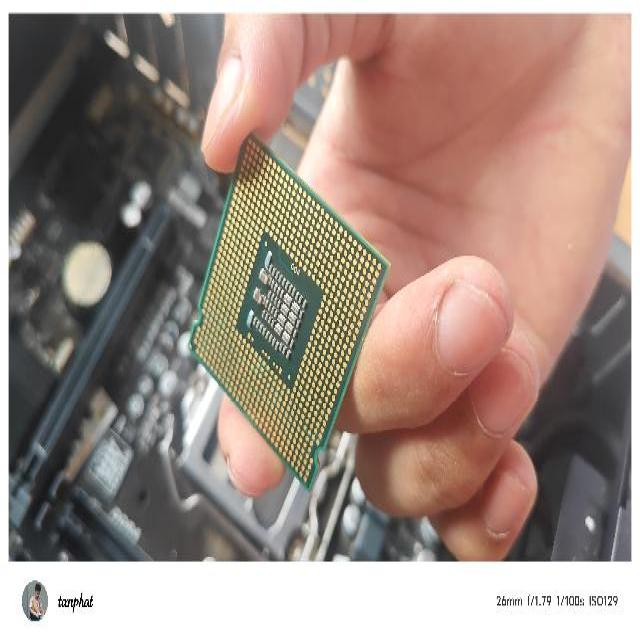CPU: (183, 128, 391, 495)
